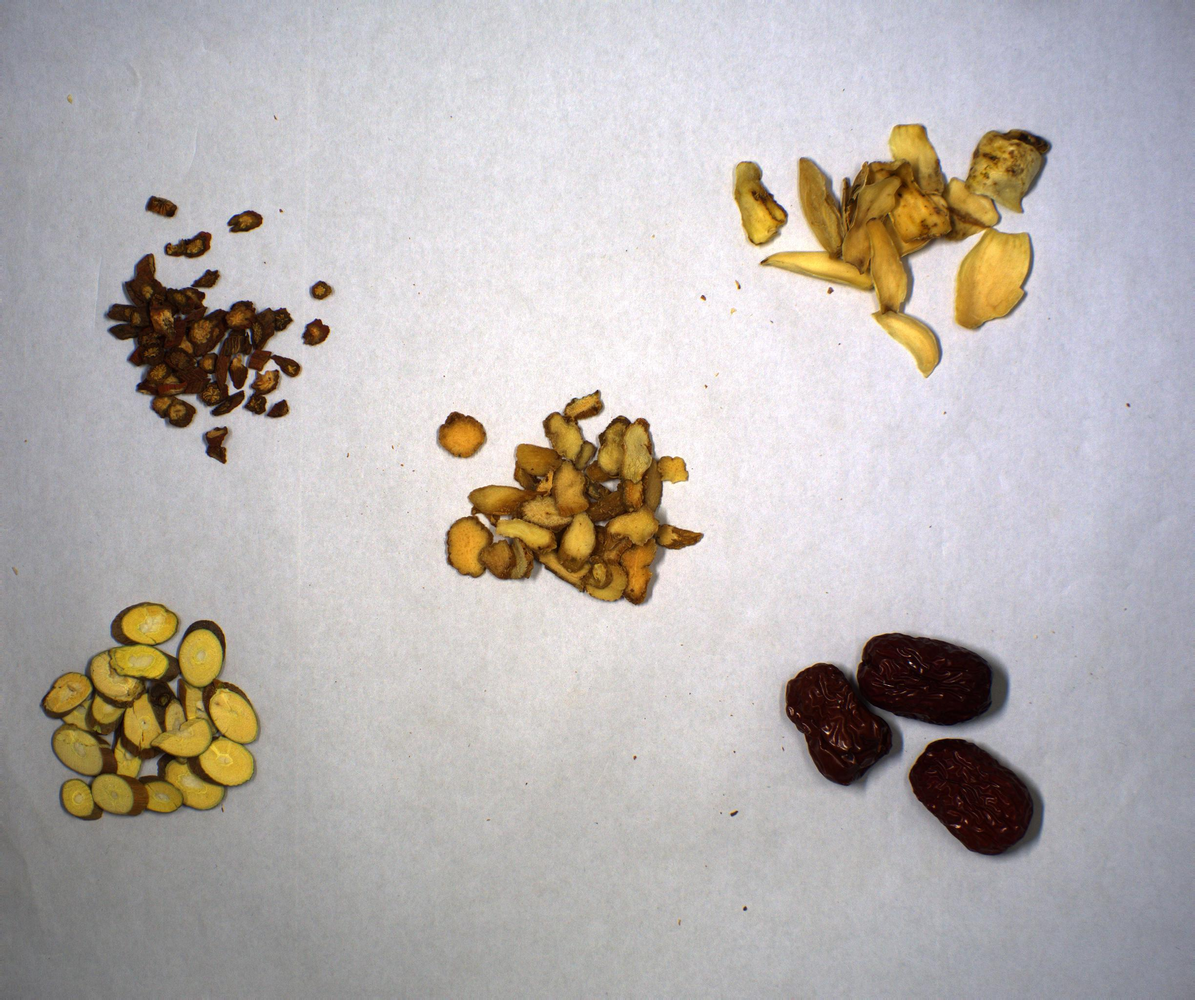baihe: (729, 123, 1052, 380)
danshen: (103, 192, 336, 469)
dazao: (778, 625, 1049, 867)
sangzhi: (38, 600, 263, 822)
yuzhu: (434, 389, 707, 612)
